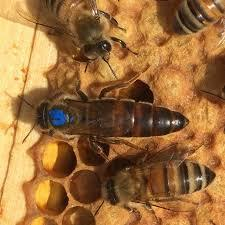Queen-Bee: (22, 88, 202, 154)
worker-bee: (85, 159, 225, 214), (30, 0, 139, 62)
